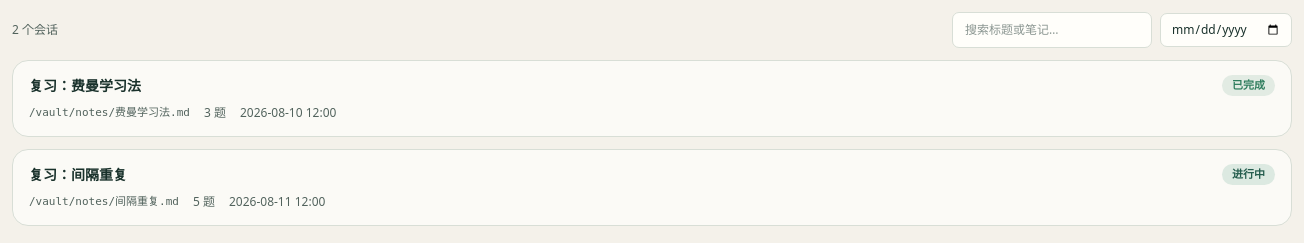
Scenario: ReviewSessionList › 按指定日期筛选
The width and height of the screenshot is (1304, 243).
Type "2026-08-10" into the date field with class "review-session-date".
click(1226, 30); type("2026-08-10")  # box [1160,13,1292,47]
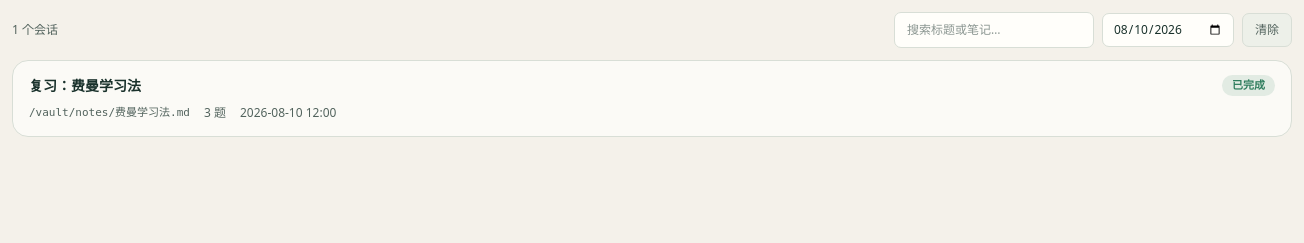
Expected: the text "复习：费曼学习法" is shown, [29,75,141,96]
Now the number of buttons with class "review-session-item" is 1, box [12,60,1292,137]
